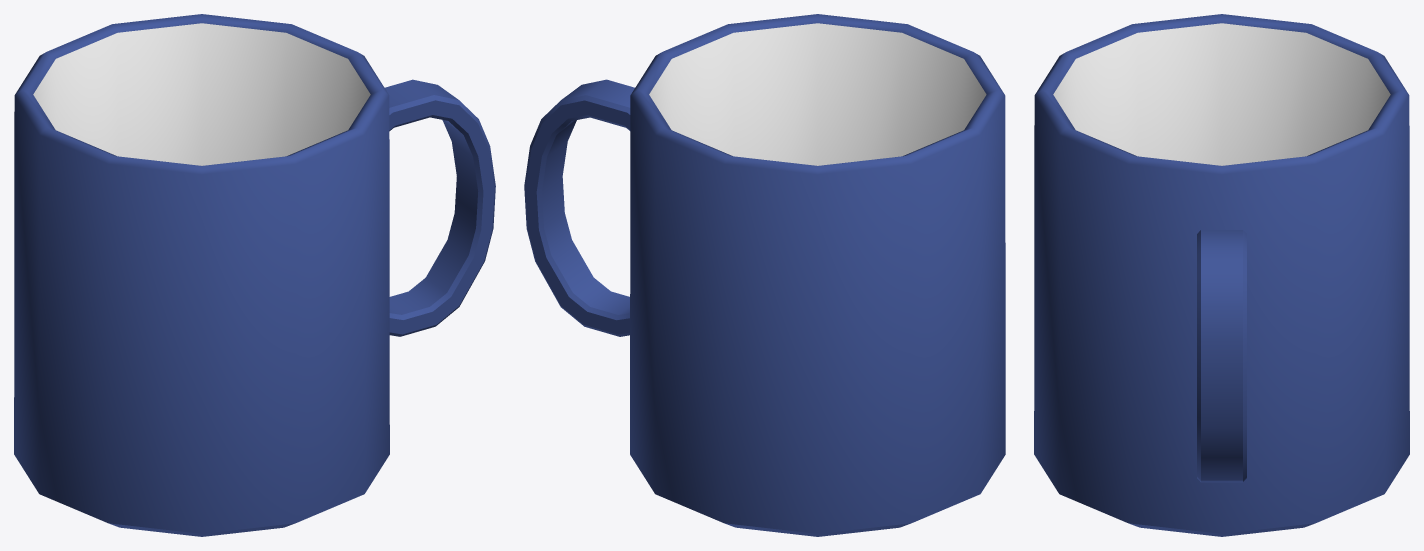
The model's file is Mug_03.fbx.
3 views of the same model, side by side, from view 1: azimuth 30°, elevation 25°; view 2: azimuth 150°, elevation 25°; view 3: azimuth 270°, elevation 25° (orthographic).
Parts seen in each view (by area): view 1: Mug_03; view 2: Mug_03; view 3: Mug_03.
Boxes of the visible parts, x1=… form: Mug_03: x1=14, y1=14, x2=495, y2=536; Mug_03: x1=524, y1=14, x2=1005, y2=536; Mug_03: x1=1034, y1=14, x2=1409, y2=536.
Bounding box in the file's own units: 0.1597 × 0.1292 × 0.1165.
